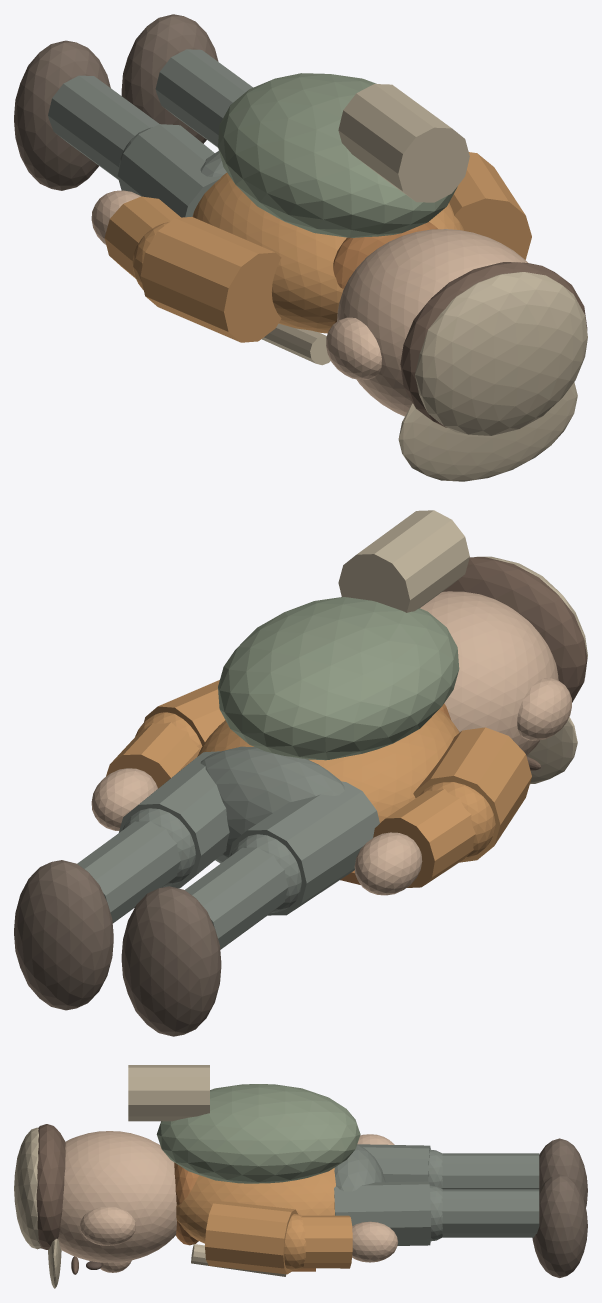
File: roamlab_explorer_male_fullbody_blockout_v01.glb
3 renders of one model, top to bottom at view 1: azimuth 30°, elevation 25°; view 2: azimuth 150°, elevation 25°; view 3: azimuth 270°, elevation 25°, orthographic. The views are drawn at different scales.
Visible parts, largest first — view 1: Backpack, HatCrown, UpperSleeve_L, Head_Classic_Blockout, JacketTorso, SleepingPad, HatBrim, Boot_L, Thigh_L, LowerLeg_L, LowerLeg_R, Boot_R (+8 smaller); view 2: Backpack, Head_Classic_Blockout, Boot_L, Boot_R, SleepingPad, Thigh_L, Hips, JacketTorso, HairCap, UpperSleeve_L, LowerLeg_L, LowerLeg_R (+12 smaller); view 3: Backpack, Head_Classic_Blockout, UpperSleeve_R, JacketTorso, LowerLeg_R, SleepingPad, Thigh_R, Boot_R, LowerLeg_L, HairCap, Forearm_R, HatCrown (+12 smaller).
Part boxes in pixels (x1,y1,x2,y2): Backpack: (218,73,457,237); HatCrown: (415,272,587,435); UpperSleeve_L: (140,217,281,342); Head_Classic_Blockout: (337,229,527,416); JacketTorso: (192,172,464,333); SleepingPad: (338,84,469,202); HatBrim: (398,382,577,481); Boot_L: (14,40,110,190); Thigh_L: (117,124,222,217); LowerLeg_L: (48,75,158,179); LowerLeg_R: (155,49,252,147); Boot_R: (121,14,218,143); Backpack: (218,597,459,760); Head_Classic_Blockout: (420,591,558,755); Boot_L: (121,886,221,1036); Boot_R: (14,860,113,1010); SleepingPad: (338,510,469,612); Thigh_L: (228,781,379,915); Hips: (200,746,344,863); JacketTorso: (197,709,459,822); HairCap: (442,557,587,702); UpperSleeve_L: (413,727,531,862); LowerLeg_L: (185,847,288,949); LowerLeg_R: (77,821,180,923); Backpack: (156,1084,360,1183); Head_Classic_Blockout: (58,1131,176,1262); UpperSleeve_R: (205,1200,297,1274); JacketTorso: (176,1168,335,1243); LowerLeg_R: (441,1189,539,1237); SleepingPad: (128,1065,209,1121); Thigh_R: (334,1181,430,1245); Boot_R: (532,1174,587,1277); LowerLeg_L: (441,1153,539,1189); HairCap: (36,1124,65,1249); Forearm_R: (300,1215,352,1268); HatCrown: (14,1127,40,1249).
Bounding box in the file's own units: 1.81 × 1.49 × 3.66.
